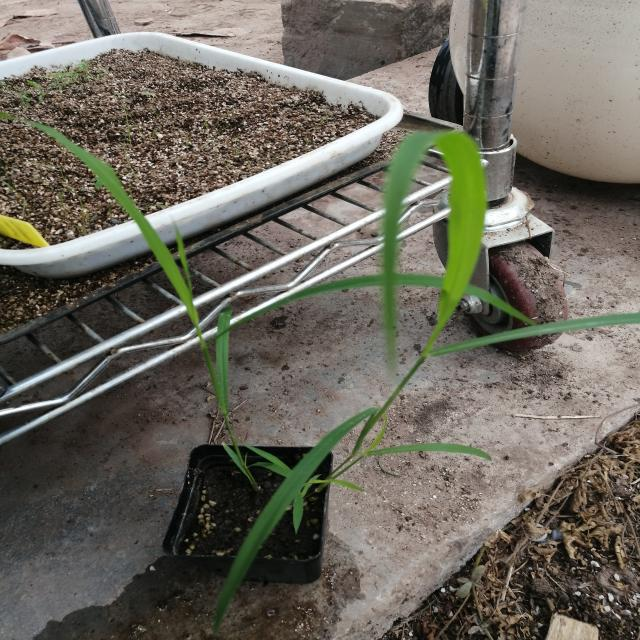crabgrass: (0, 96, 326, 532), (306, 123, 592, 515)
